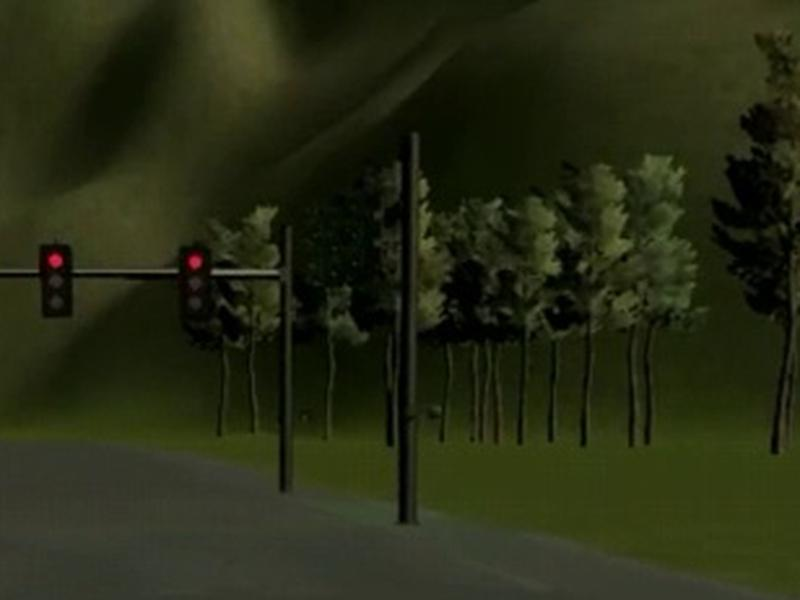Red: (40, 243, 73, 317), (179, 247, 209, 318)
